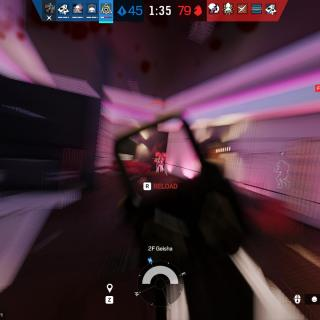Character: (154, 152, 166, 174)
Friend_label: (277, 152, 288, 162)
